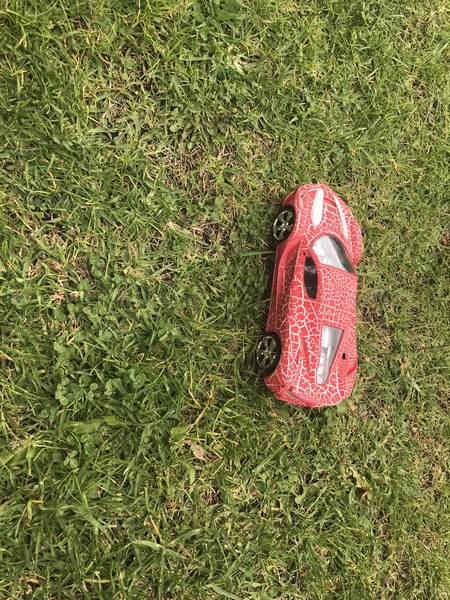RC: (253, 182, 363, 412)
